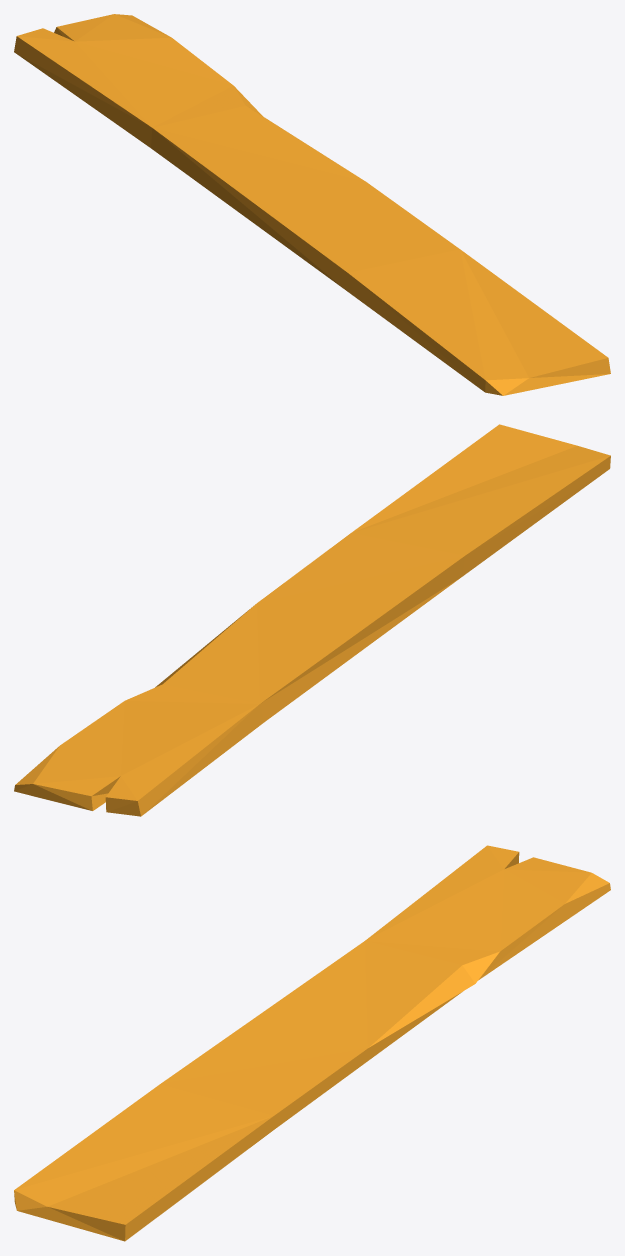
The model's file is SM_Path_Woodplanks_Single_B_Fantasy.fbx.
The picture shows the model from 3 angles, top to bottom: view 1: azimuth 30°, elevation 25°; view 2: azimuth 150°, elevation 25°; view 3: azimuth 330°, elevation 25°; orthographic projection.
Visible parts, largest first — view 1: path-woodplanks-single-b-fantasy; view 2: path-woodplanks-single-b-fantasy; view 3: path-woodplanks-single-b-fantasy.
Part boxes in pixels (x1=…): path-woodplanks-single-b-fantasy: x1=14, y1=14, x2=610, y2=395; path-woodplanks-single-b-fantasy: x1=14, y1=424, x2=610, y2=816; path-woodplanks-single-b-fantasy: x1=14, y1=845, x2=610, y2=1241.
Bounding box in the file's own units: 0.266 × 0.0437 × 1.81.
